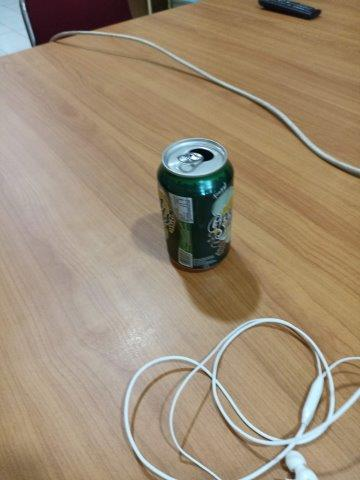kaleng: (157, 137, 234, 273)
